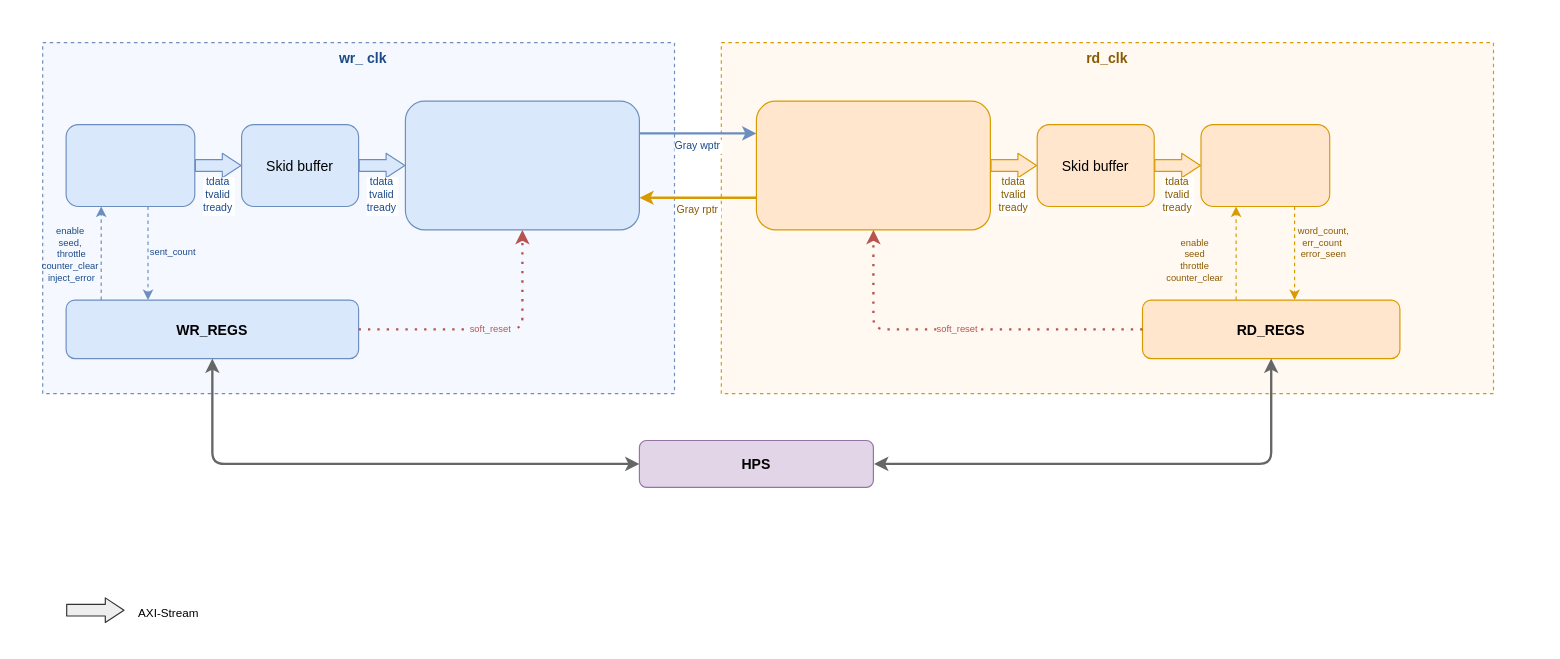
This 1560x659 diagram has some shape labels left out. Each missing label, with the centre of its shape:
"Async FIFO Read" belongs at pixel 872 165.
"Async FIFO Write" belongs at pixel 521 165.
"LFSR checker" belongs at pixel 1265 165.
"LFSR generator" belongs at pixel 130 165.
